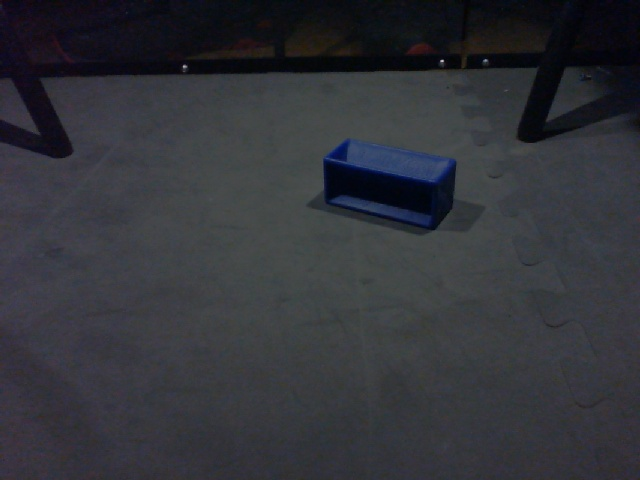BlueSample: (320, 134, 458, 235)
